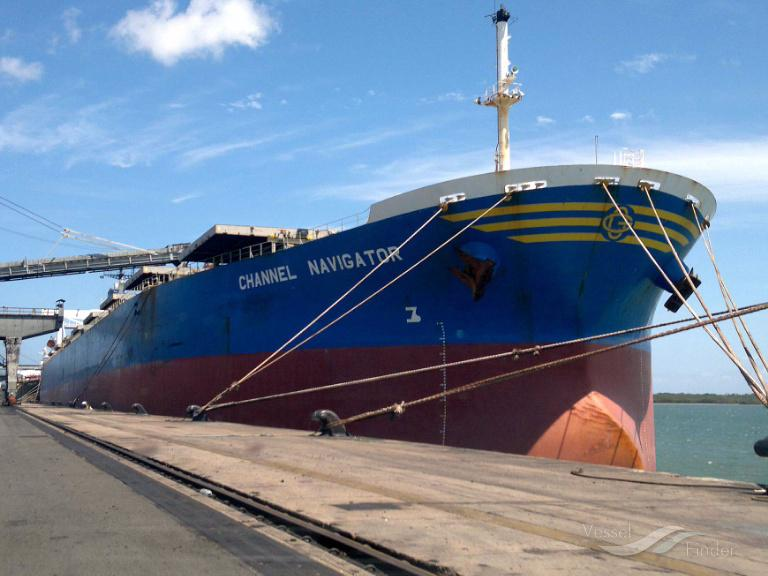OCR: (224, 235, 412, 290)
